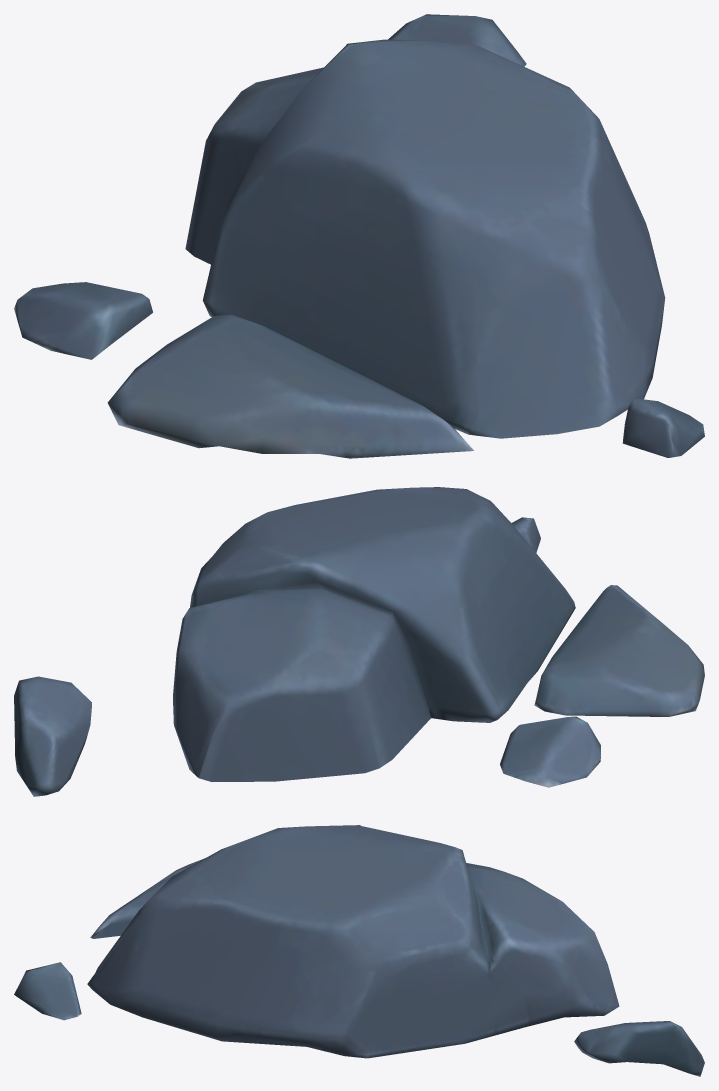
The model's file is SM_Stone_01.glb.
The picture shows the model from 3 angles, top to bottom: view 1: azimuth 30°, elevation 25°; view 2: azimuth 150°, elevation 25°; view 3: azimuth 270°, elevation 25°; orthographic projection. The views are drawn at different scales.
Parts seen in each view (by area): view 1: SM_Stone_01; view 2: SM_Stone_01; view 3: SM_Stone_01.
Boxes of the visible parts, x1,y1,x2,y2 form: SM_Stone_01: [14, 14, 704, 458]; SM_Stone_01: [14, 487, 704, 796]; SM_Stone_01: [14, 825, 704, 1076].
Bounding box in the file's own units: 2.9 × 0.9819 × 3.79.
Materials: 1 (1 with a texture image).
